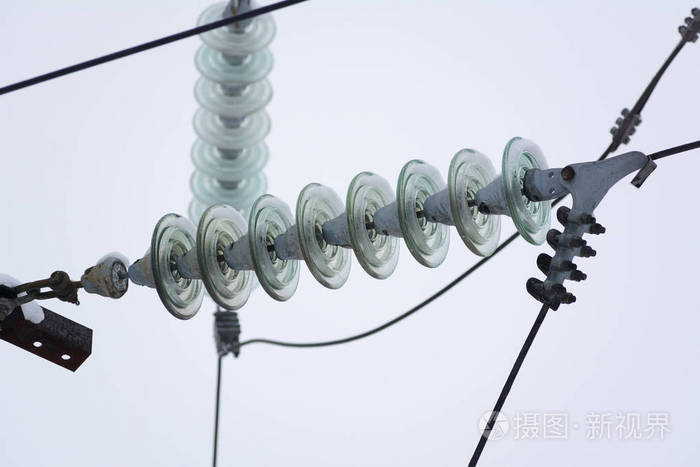insulator: (153, 135, 556, 323), (182, 4, 277, 217)
